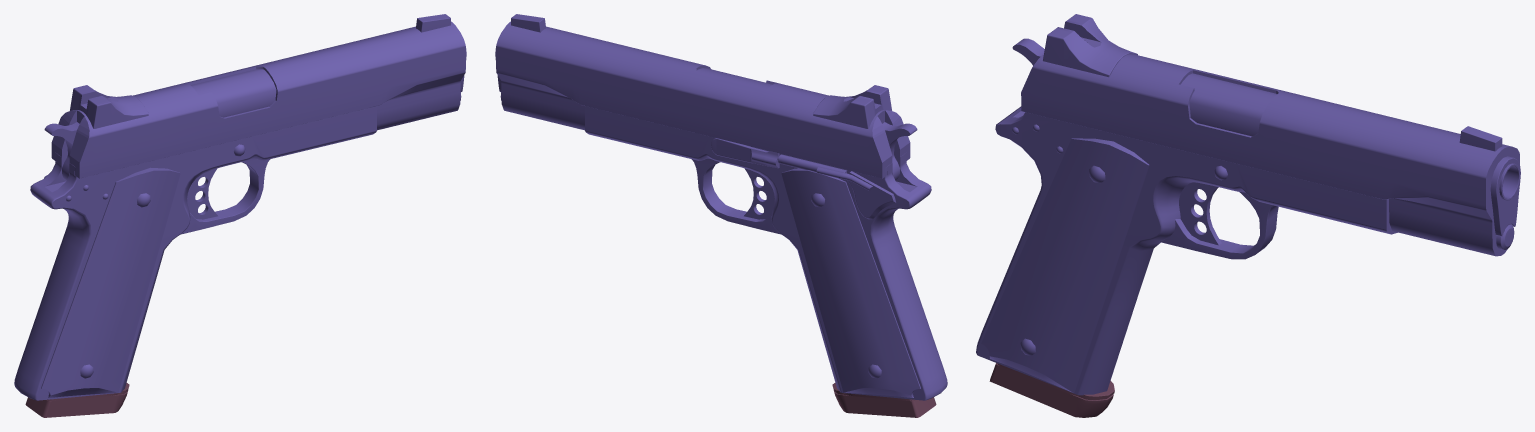
The picture shows the model from 3 angles, left to right: view 1: azimuth 30°, elevation 25°; view 2: azimuth 150°, elevation 25°; view 3: azimuth 330°, elevation 25°; orthographic projection. The views are drawn at different scales.
Parts seen in each view (by area): view 1: m1911_gun, m1911_mag; view 2: m1911_gun, m1911_mag; view 3: m1911_gun, m1911_mag.
Boxes of the visible parts, left/top/right/bottom form: m1911_gun: left=14, top=14, right=466, bottom=400; m1911_mag: left=25, top=383, right=129, bottom=417; m1911_gun: left=495, top=14, right=947, bottom=400; m1911_mag: left=832, top=383, right=936, bottom=417; m1911_gun: left=976, top=14, right=1520, bottom=395; m1911_mag: left=989, top=363, right=1114, bottom=417.
Size of the model in its own units: 9.5 by 6.55 by 1.23.
